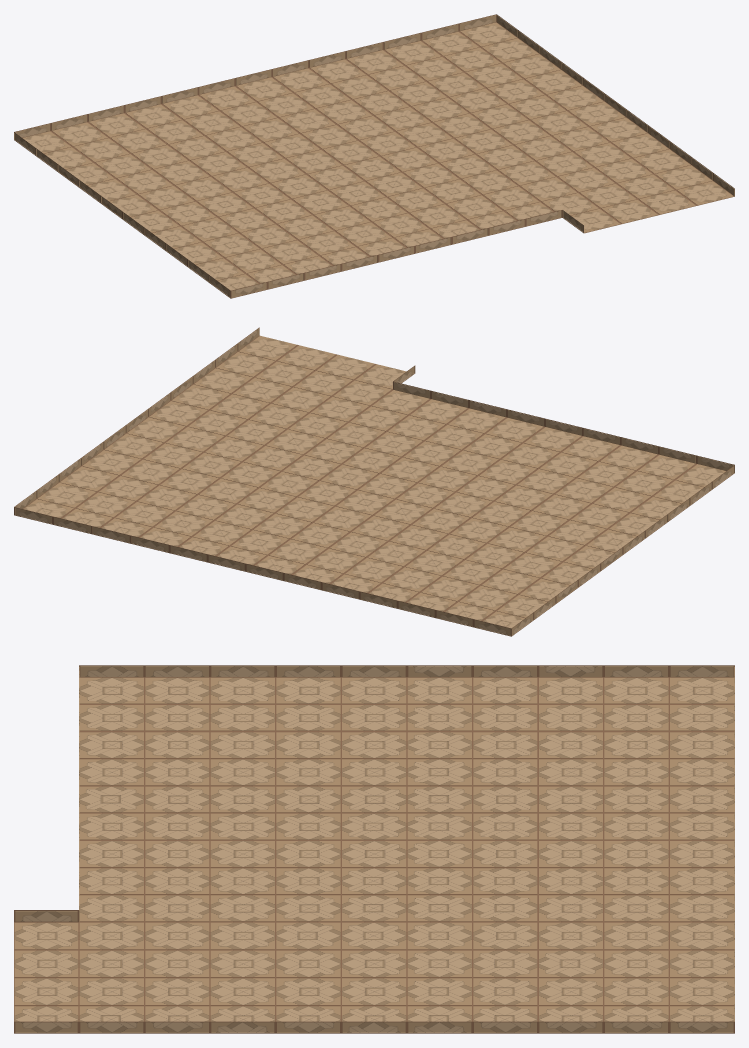
The model's file is piso.glb.
3 renders of one model, top to bottom at view 1: azimuth 30°, elevation 25°; view 2: azimuth 150°, elevation 25°; view 3: azimuth 270°, elevation 25°, orthographic. The views are drawn at different scales.
Visible parts, largest first — view 1: Cube.019; view 2: Cube.019; view 3: Cube.019.
Part boxes in pixels (x1,y1,x2,y2): Cube.019: (14,14,734,298); Cube.019: (14,327,734,636); Cube.019: (14,665,734,1033).
Size of the model in its own units: 4.05 by 0.0646 by 3.46.
Materials: 2 (1 with a texture image).
